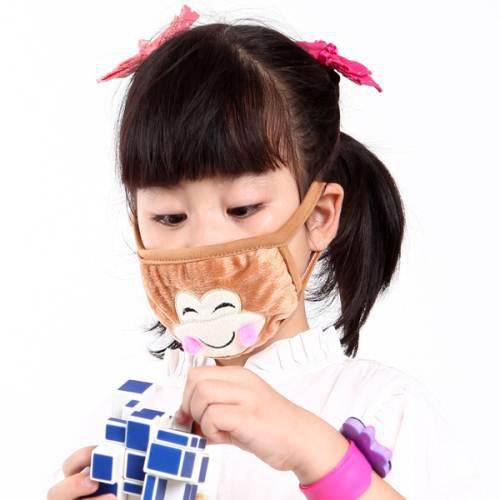OK: (129, 172, 300, 343)
